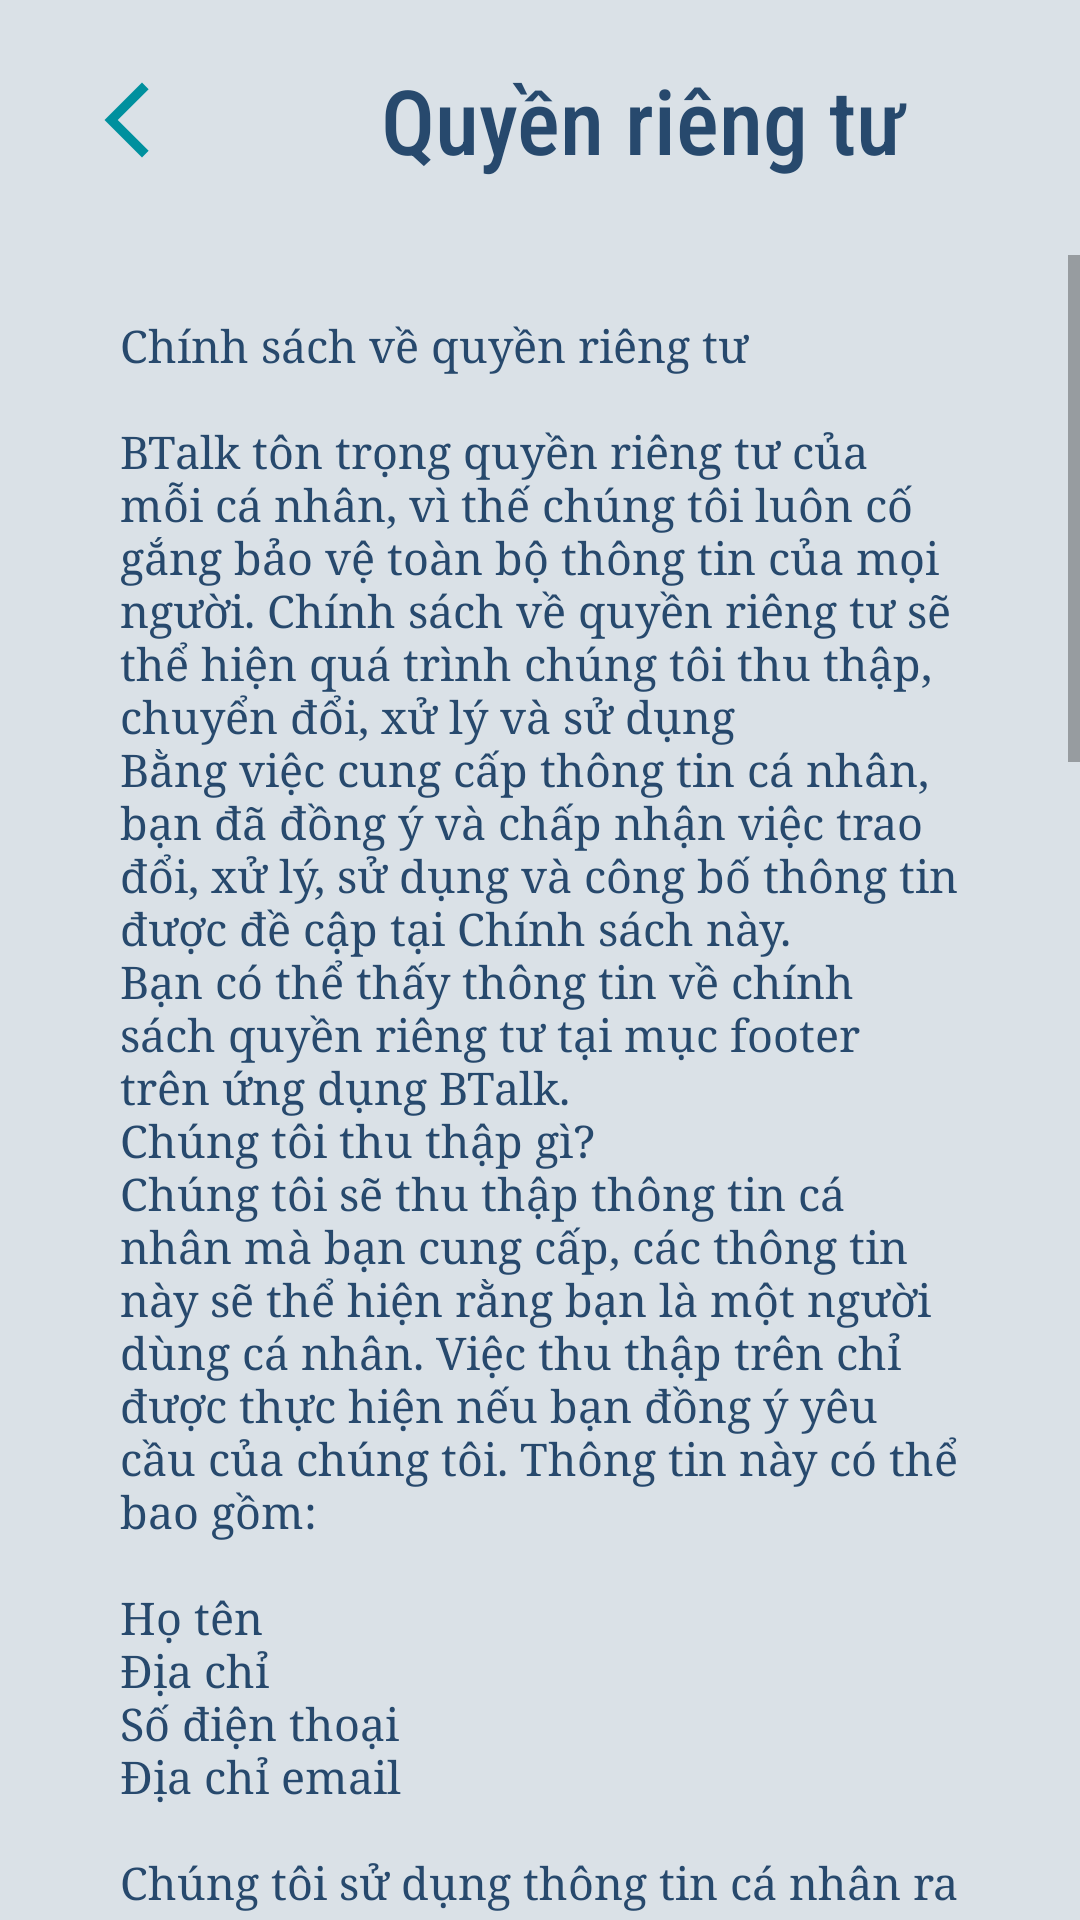

Icon bounding boxes for this 1080px x 1920px phone screenshot, format (x1, y1, x2, y2):
back: (104, 82, 149, 158)
